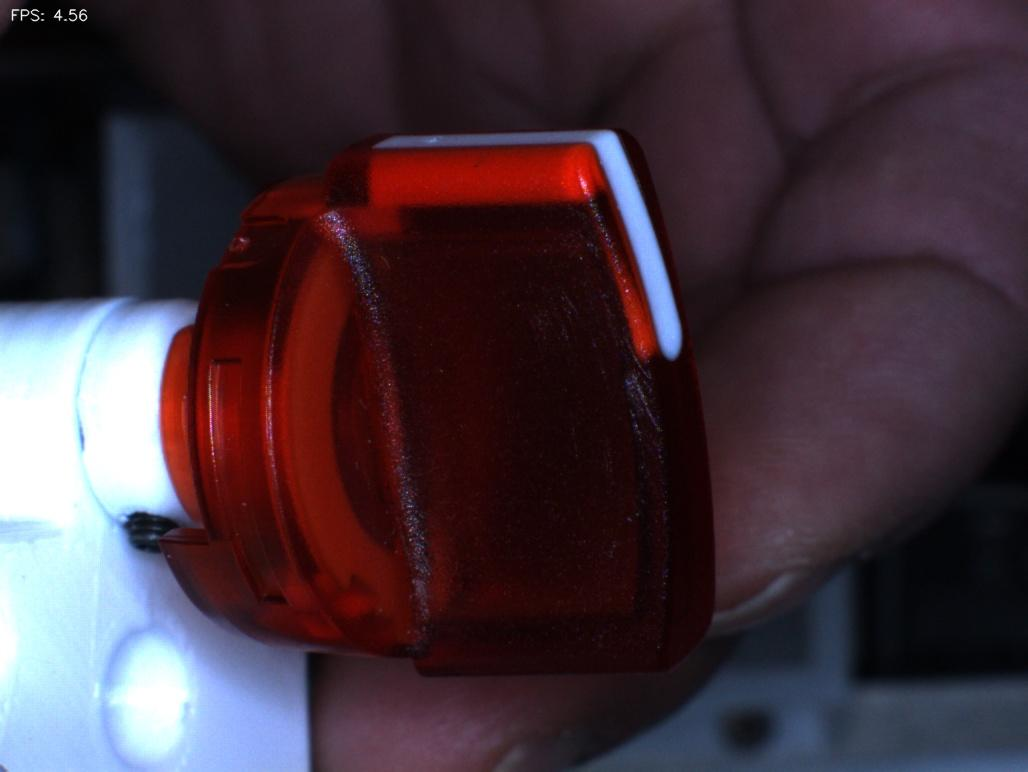Givrage: (525, 274, 656, 466)
